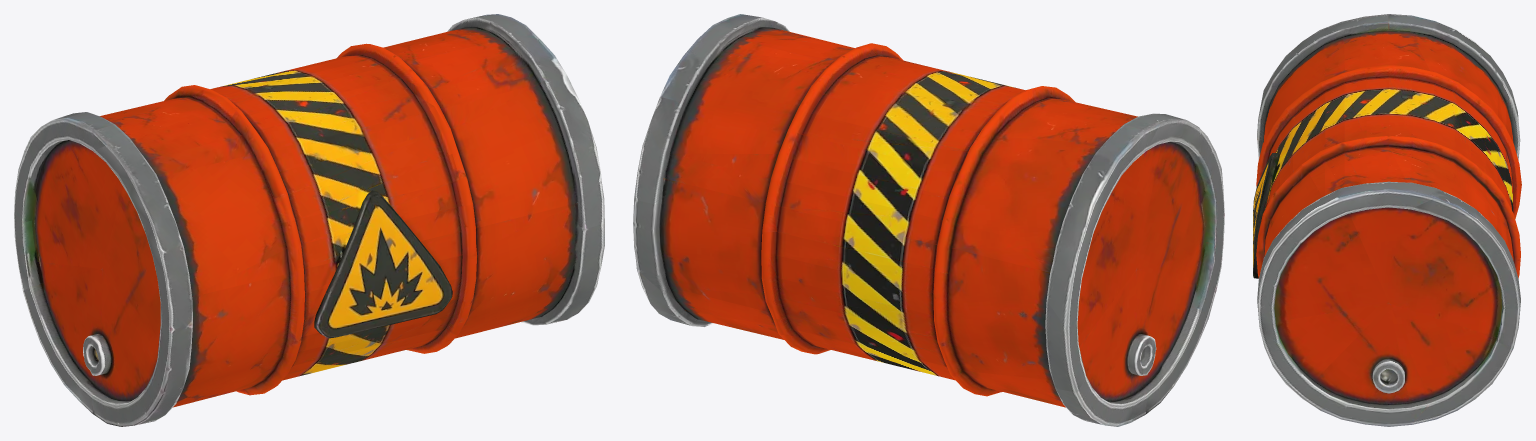
Rendered from explode_barrel_0.glb.
The picture shows the model from 3 angles, left to right: view 1: azimuth 30°, elevation 25°; view 2: azimuth 150°, elevation 25°; view 3: azimuth 270°, elevation 25°; orthographic projection. The views are drawn at different scales.
Visible parts, largest first — view 1: mesh_node; view 2: mesh_node; view 3: mesh_node.
Part boxes in pixels (x1,y1,x2,y2): mesh_node: (14, 14, 604, 426); mesh_node: (633, 14, 1224, 426); mesh_node: (1253, 14, 1521, 426).
Size of the model in its own units: 1 by 0.6289 by 0.6406.
1 material, 1 textured.
